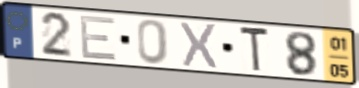0: (135, 18, 171, 67)
2: (39, 11, 74, 60)
8: (282, 30, 319, 78)
E: (78, 14, 119, 63)
T: (238, 25, 272, 75)
X: (179, 20, 219, 71)
